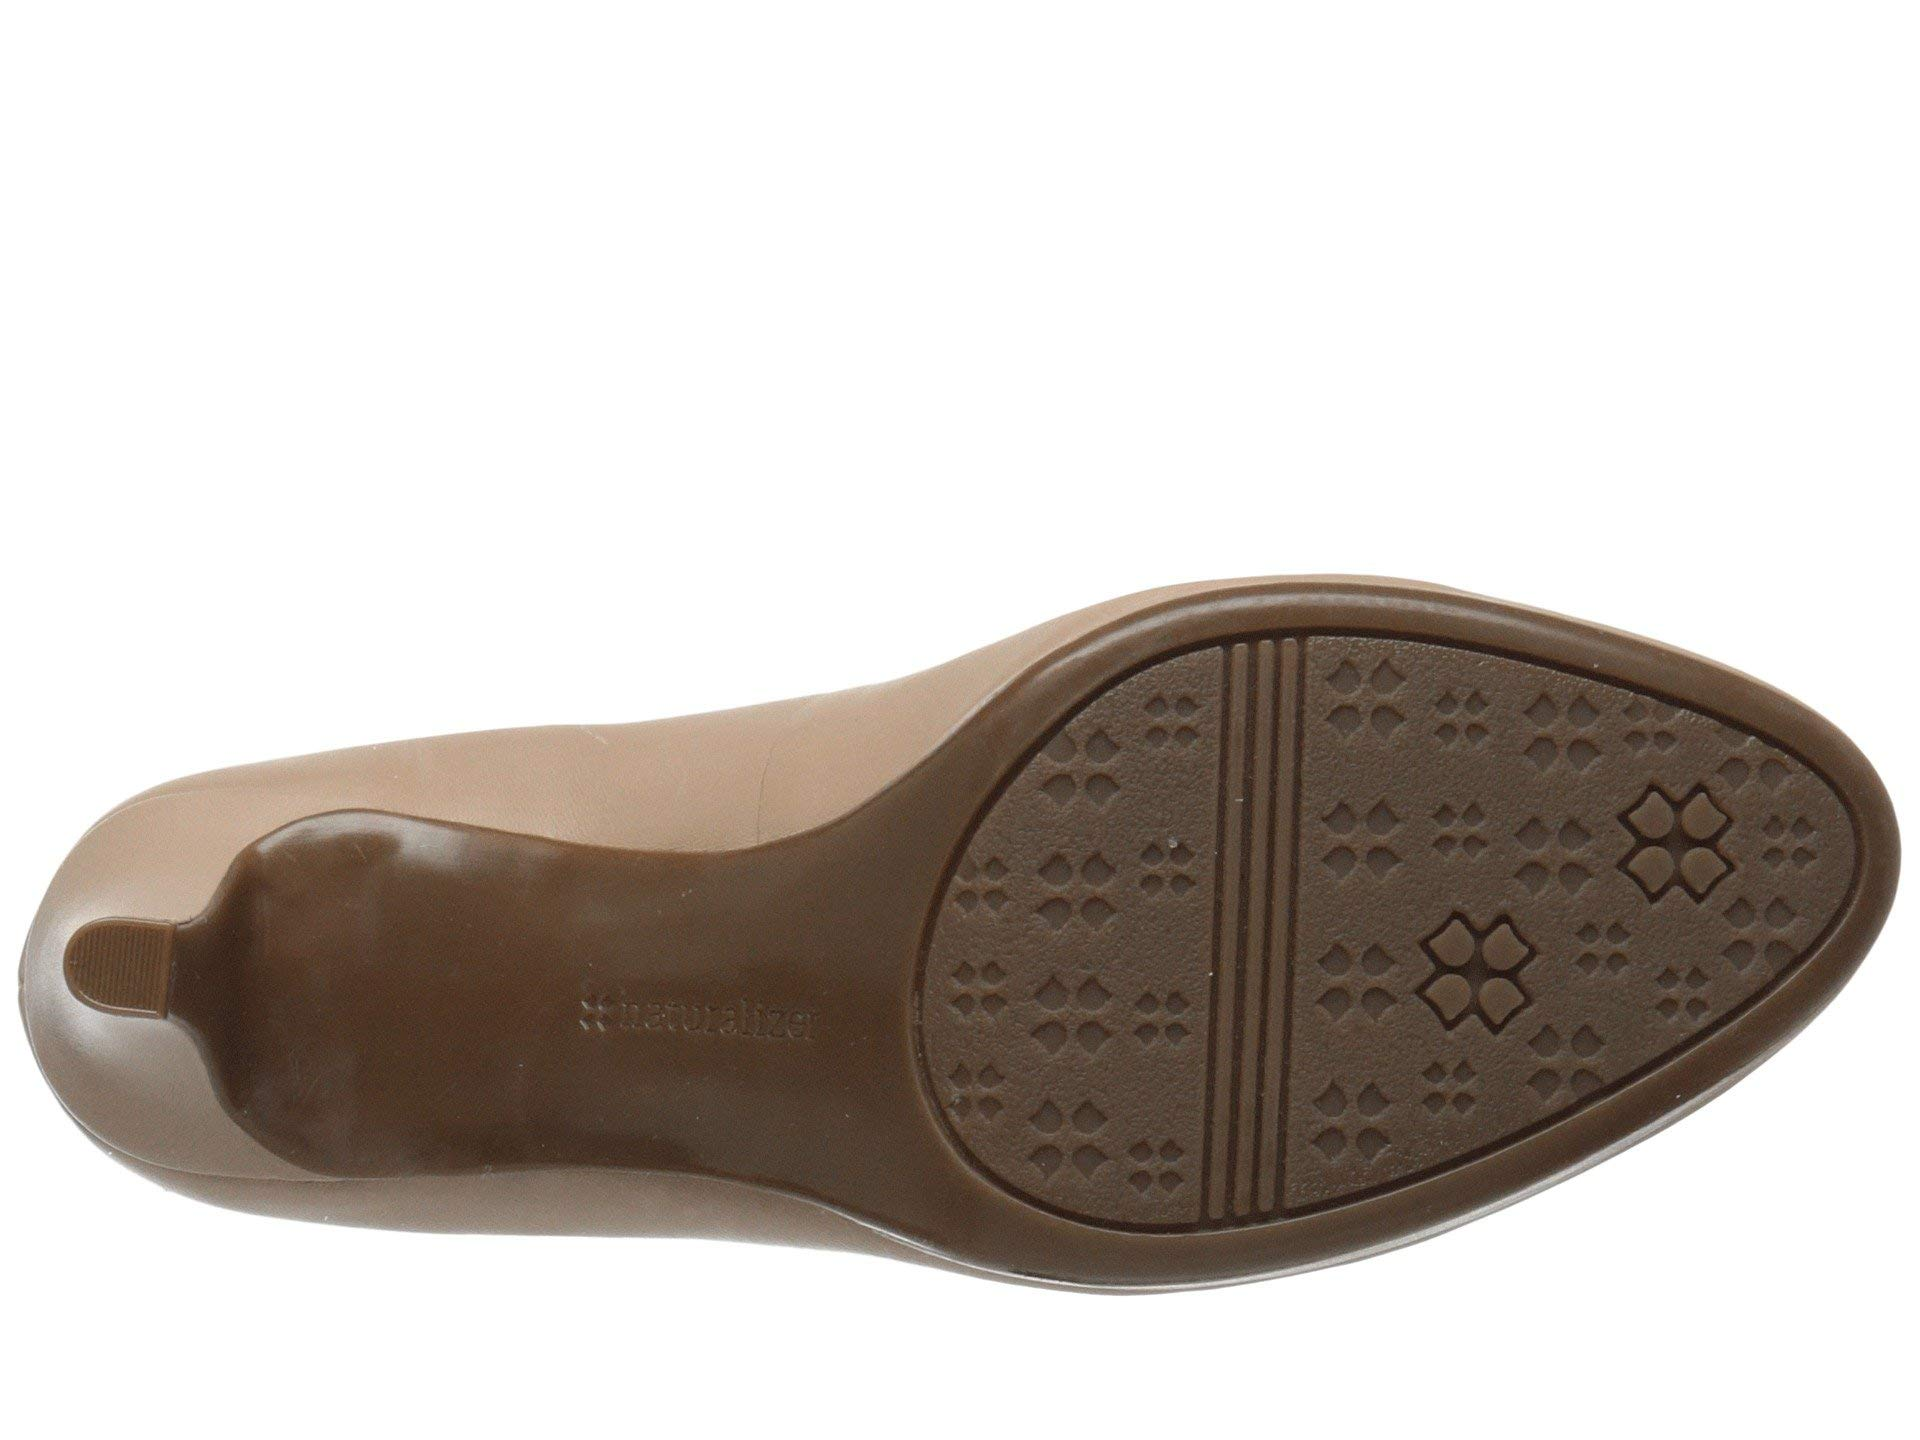exclude: (230, 681, 900, 1263)
line: (1314, 635, 1745, 1069), (1219, 634, 1287, 1225), (76, 908, 166, 1016)
quad: (1314, 635, 1745, 1069)
